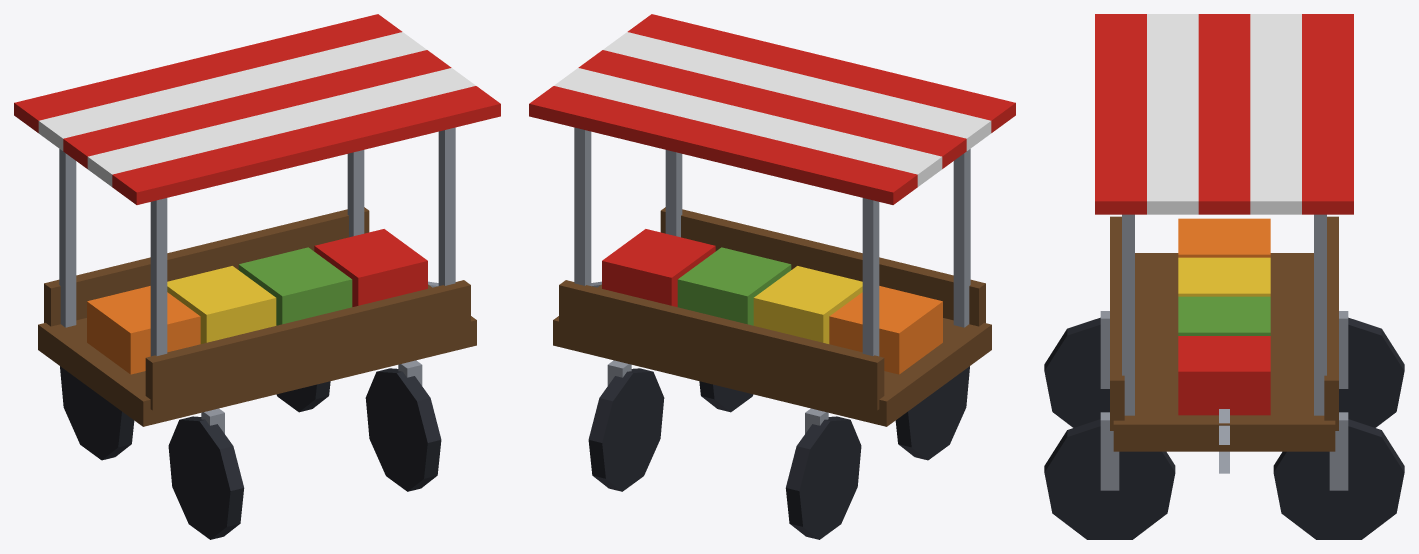
The model's file is carro_feria.obj.
3 views of the same model, side by side, from view 1: azimuth 30°, elevation 25°; view 2: azimuth 150°, elevation 25°; view 3: azimuth 270°, elevation 25° (orthographic). The views are drawn at different scales.
Parts seen in each view (by area): view 1: carro_feria; view 2: carro_feria; view 3: carro_feria.
Boxes of the visible parts, x1,y1,x2,y2 form: carro_feria: (14, 14, 500, 539); carro_feria: (529, 14, 1015, 539); carro_feria: (1044, 14, 1404, 539).
Size of the model in its own units: 2.44 by 2.28 by 1.95.
